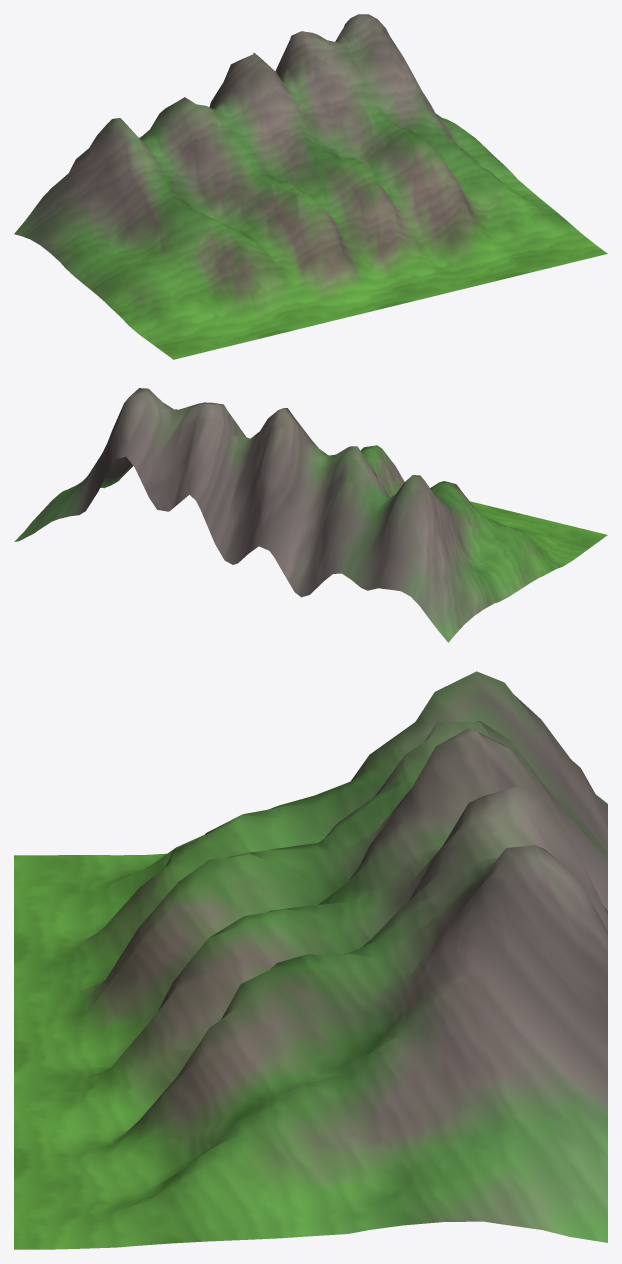
Rendered from ridge_a.glb.
3 views of the same model, one above another, from view 1: azimuth 30°, elevation 25°; view 2: azimuth 150°, elevation 25°; view 3: azimuth 270°, elevation 25° (orthographic). The views are drawn at different scales.
Parts seen in each view (by area): view 1: ridge_a; view 2: ridge_a; view 3: ridge_a.
Part boxes in pixels (x1=…): ridge_a: x1=14, y1=14, x2=607, y2=359; ridge_a: x1=14, y1=388, x2=607, y2=642; ridge_a: x1=14, y1=671, x2=607, y2=1249.
Bounding box in the file's own units: 22 × 8.27 × 14.
Materials: 1 (1 with a texture image).
